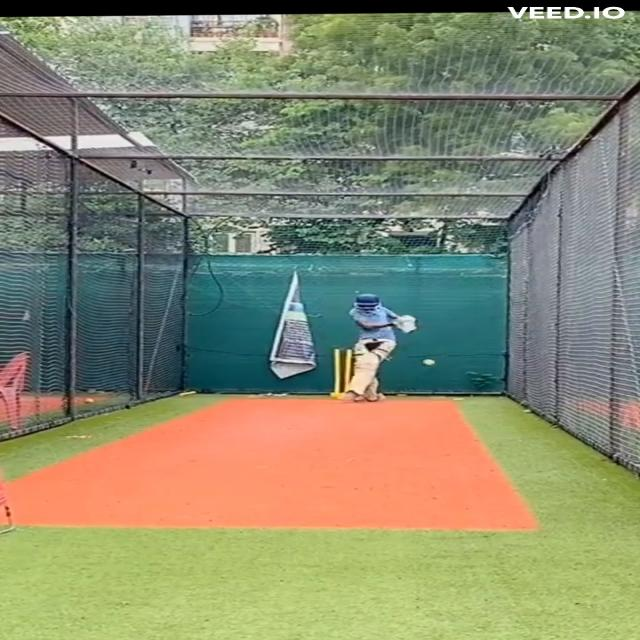ball: (421, 358, 437, 367)
stump: (332, 347, 351, 399)
